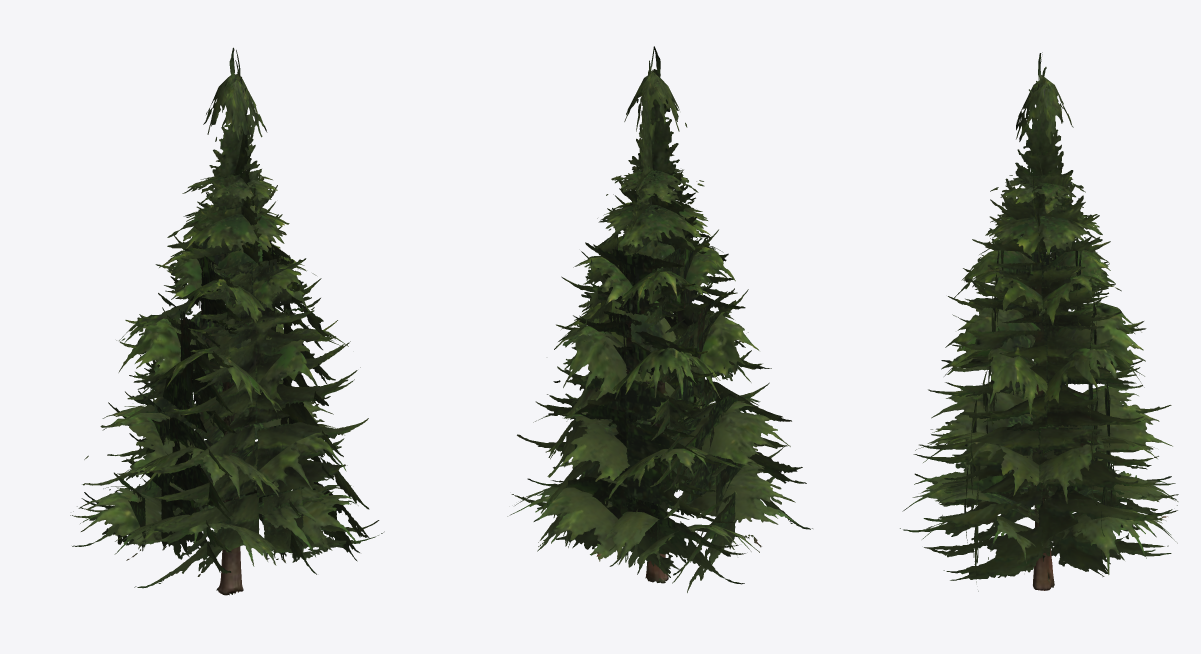
File: fir-spire-near.glb
The picture shows the model from 3 angles, left to right: view 1: azimuth 30°, elevation 25°; view 2: azimuth 150°, elevation 25°; view 3: azimuth 270°, elevation 25°; orthographic projection. The views are drawn at different scales.
Visible parts, largest first — view 1: Foliage, Wood; view 2: Foliage, Wood; view 3: Foliage, Wood.
Boxes of the visible parts, x1=… form: Foliage: x1=70, y1=47, x2=384, y2=588; Wood: x1=126, y1=382, x2=351, y2=595; Foliage: x1=507, y1=46, x2=812, y2=592; Wood: x1=596, y1=376, x2=761, y2=583; Foliage: x1=900, y1=52, x2=1178, y2=591; Wood: x1=938, y1=423, x2=1167, y2=590.
Bounding box in the file's own units: 6.56 × 12.14 × 6.07.
Materials: 2 (2 with a texture image).
